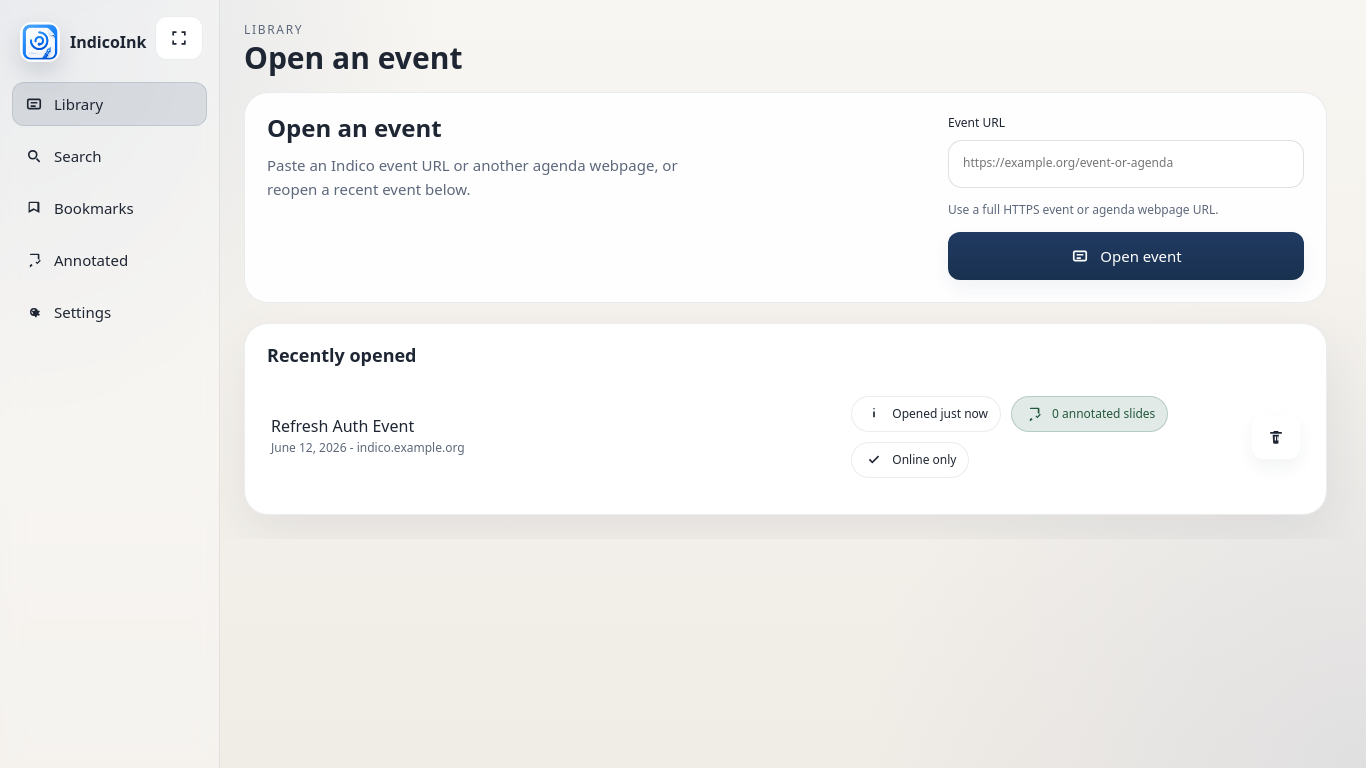
Scenario: App › prompts for a replacement API key and retries an event refresh
The image size is (1366, 768).
Click the button with aria-label "Open Refresh Auth Event".
click(343, 426)  # box [267, 382, 1304, 492]
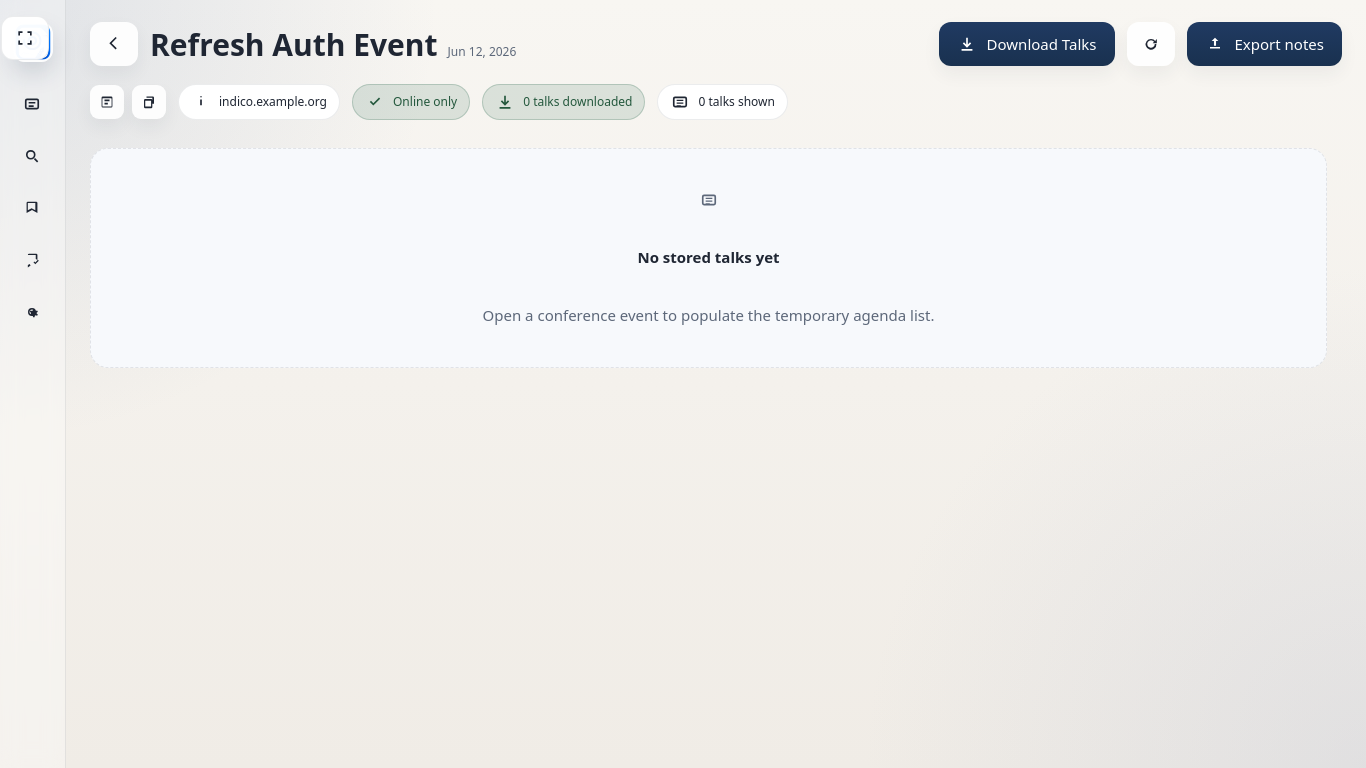
Click the button named "Refresh".
click(1150, 44)  # box [1126, 22, 1174, 66]
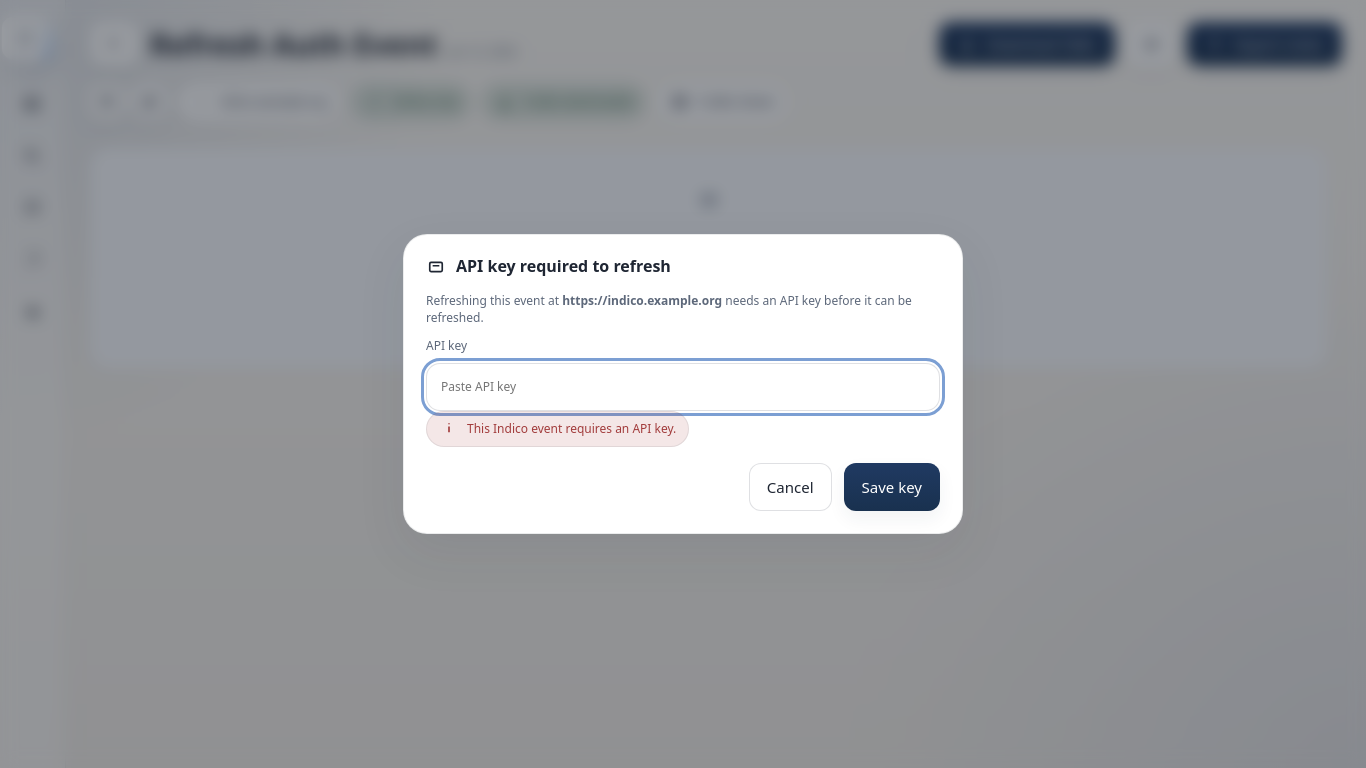
Result: the heading "API key required to refresh" is shown at [456, 258, 671, 276]
Result: the text "needs an API key before it can be refreshed" is shown at [426, 293, 940, 326]
Type "replacement-key" into the password field labelled "API key".
click(683, 387); type("replacement-key")  # box [426, 363, 940, 411]
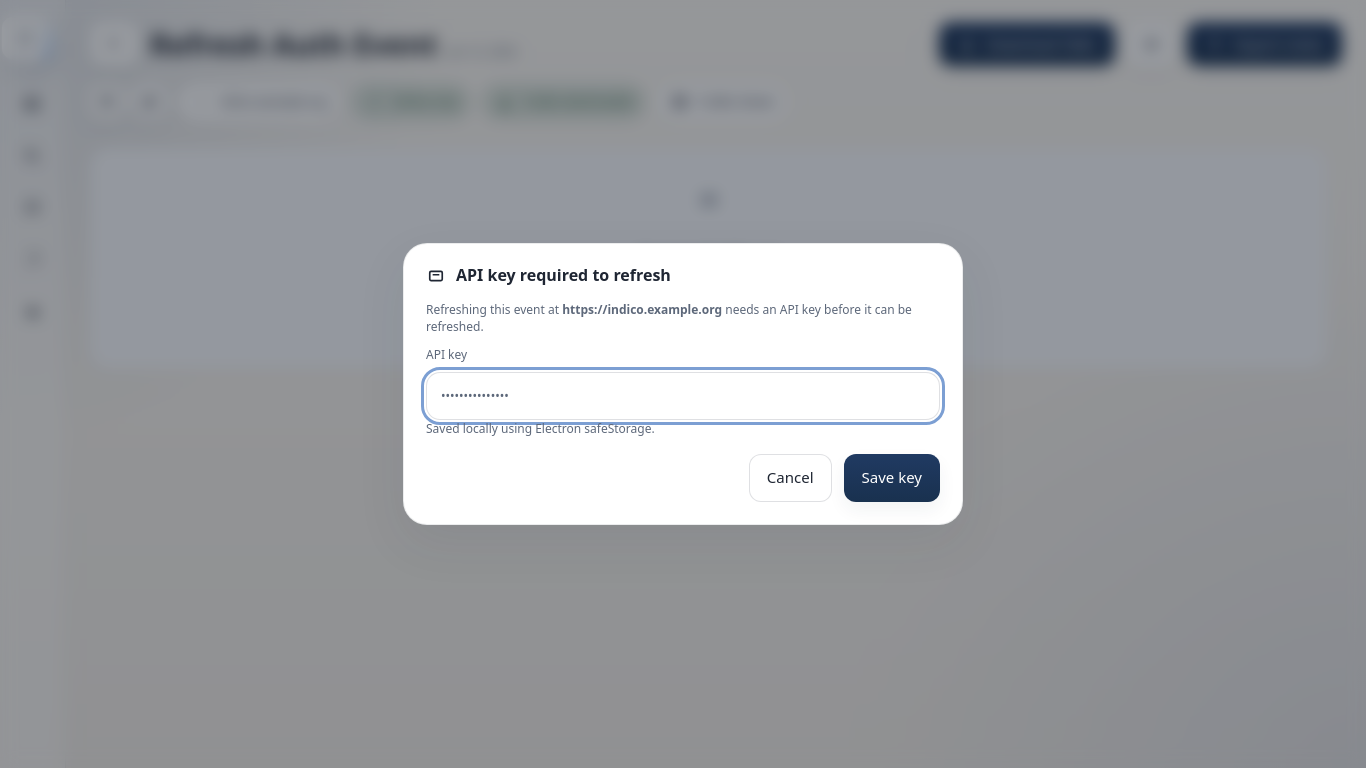
Click the button "Save key".
click(892, 478)  # box [844, 454, 940, 502]
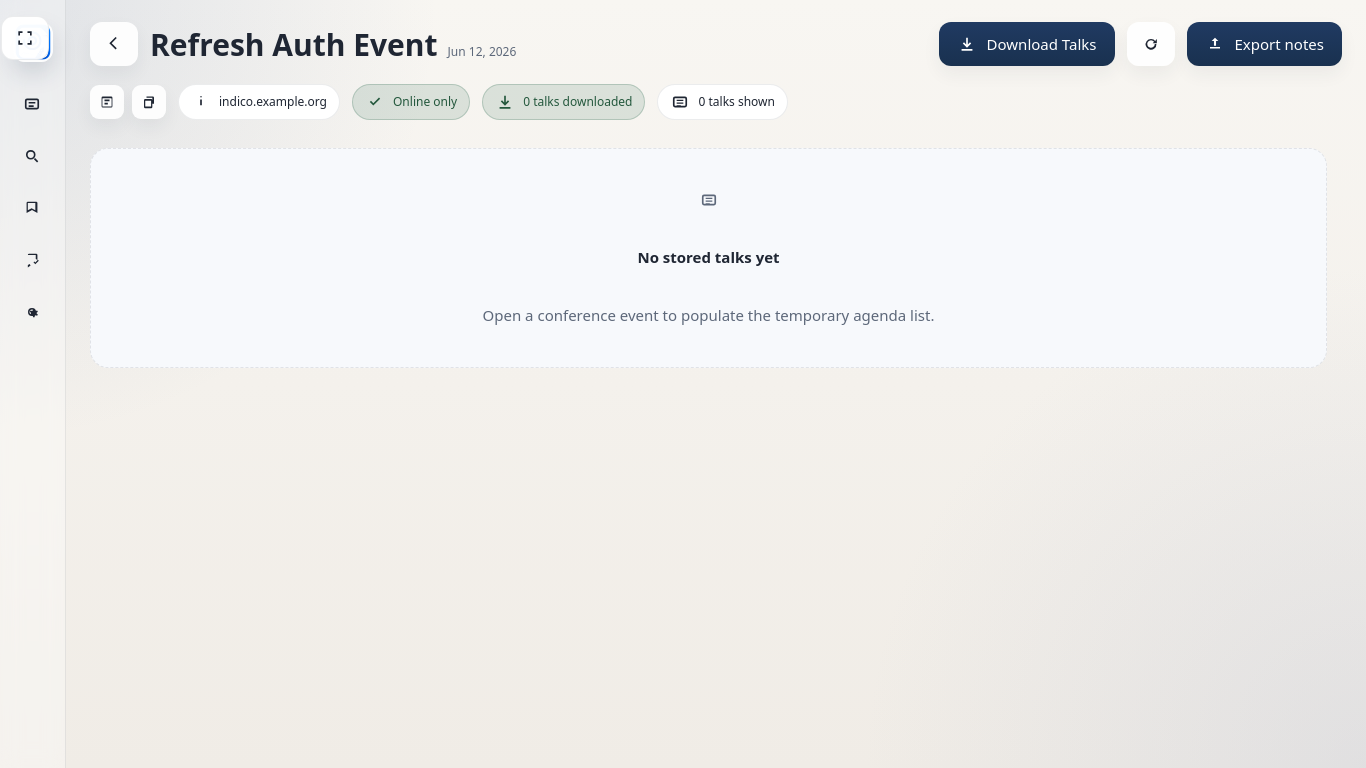
Result: the heading labelled "API key" is gone
